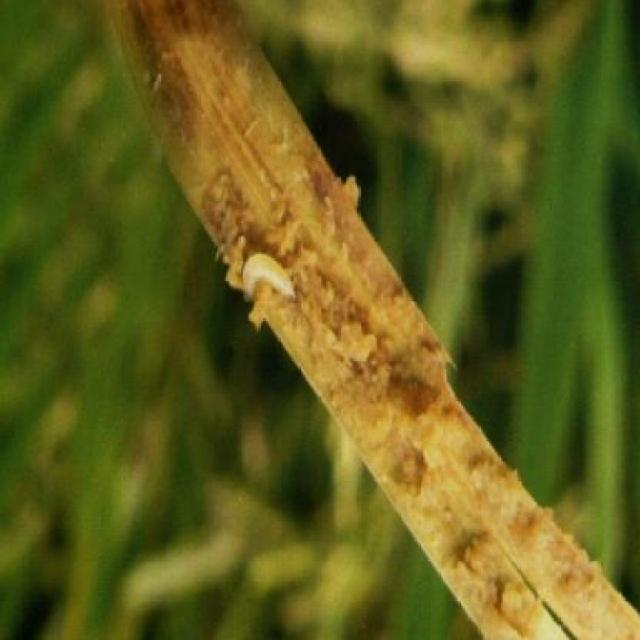whorl-maggot: (232, 242, 302, 312)
